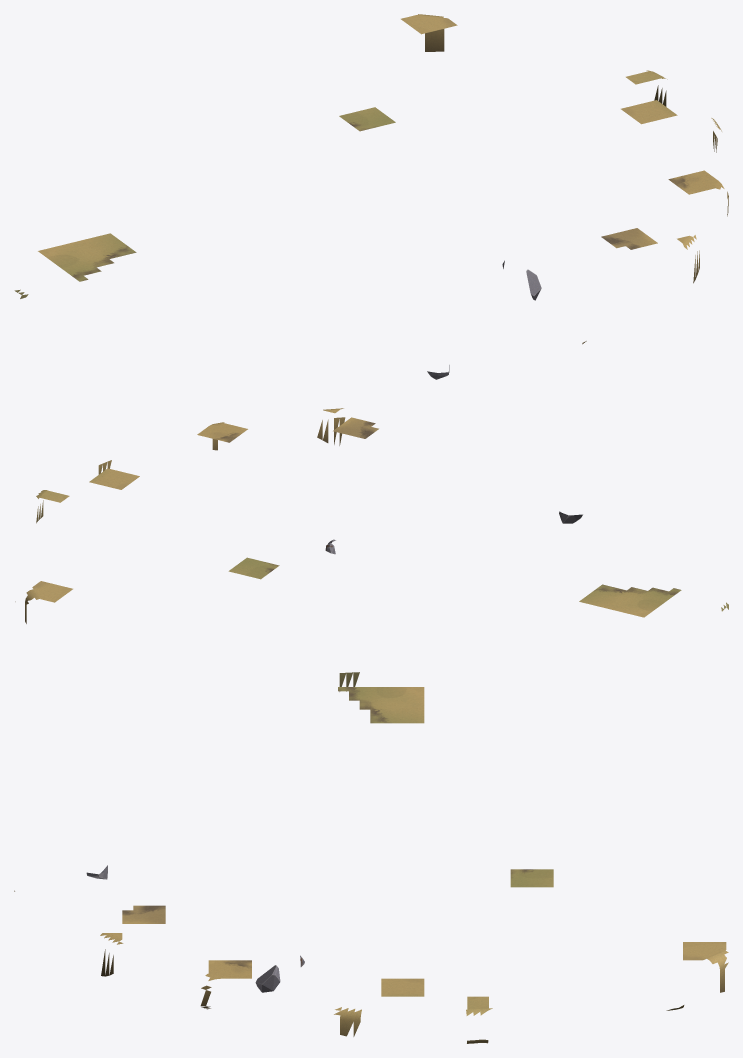
The picture shows the model from 3 angles, top to bottom: view 1: azimuth 30°, elevation 25°; view 2: azimuth 150°, elevation 25°; view 3: azimuth 270°, elevation 25°; orthographic projection. The views are drawn at different scales.
Parts seen in each view (by area): view 1: Grass_-4_-1_0, Grass_3_3_0_000, Grass_3_-3_0_110, Grass_4_-1_0_010, Grass_1_1_0_000, Grass_2_-4_0_010; view 2: Grass_-4_-1_0, Grass_3_3_0_000, Grass_3_-3_0_110, Grass_1_1_0_000, Grass_4_-1_0_010, Grass_2_-4_0_010, Grass_2_-4_0_100_111; view 3: Grass_-4_-1_0, Grass_3_3_0_000, Grass_3_-3_0_110, Grass_1_1_0_000, Grass_4_-1_0_010, Grass_2_-4_0_010.
Boxes of the visible parts, x1,y1,x2,y2 form: Grass_-4_-1_0: [38, 233, 136, 281]; Grass_3_3_0_000: [401, 14, 457, 51]; Grass_3_-3_0_110: [668, 170, 724, 194]; Grass_4_-1_0_010: [621, 100, 677, 124]; Grass_1_1_0_000: [339, 107, 395, 131]; Grass_2_-4_0_010: [601, 228, 657, 249]; Grass_-4_-1_0: [579, 584, 681, 617]; Grass_3_3_0_000: [25, 581, 72, 623]; Grass_3_-3_0_110: [197, 422, 247, 450]; Grass_1_1_0_000: [228, 557, 279, 579]; Grass_4_-1_0_010: [89, 468, 139, 489]; Grass_2_-4_0_010: [333, 417, 378, 438]; Grass_2_-4_0_100_111: [317, 408, 345, 445]; Grass_-4_-1_0: [338, 687, 424, 723]; Grass_3_3_0_000: [683, 942, 728, 992]; Grass_3_-3_0_110: [205, 960, 251, 980]; Grass_1_1_0_000: [510, 869, 553, 887]; Grass_4_-1_0_010: [381, 978, 424, 996]; Grass_2_-4_0_010: [122, 905, 165, 923].
Size of the model in its own units: 625 by 78.84 by 531.
Materials: 16 (16 with a texture image).
